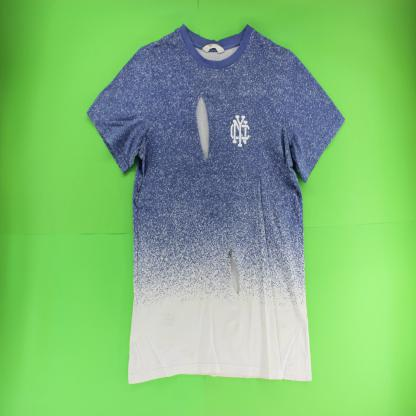hole: (192, 93, 212, 162), (229, 246, 241, 298)
